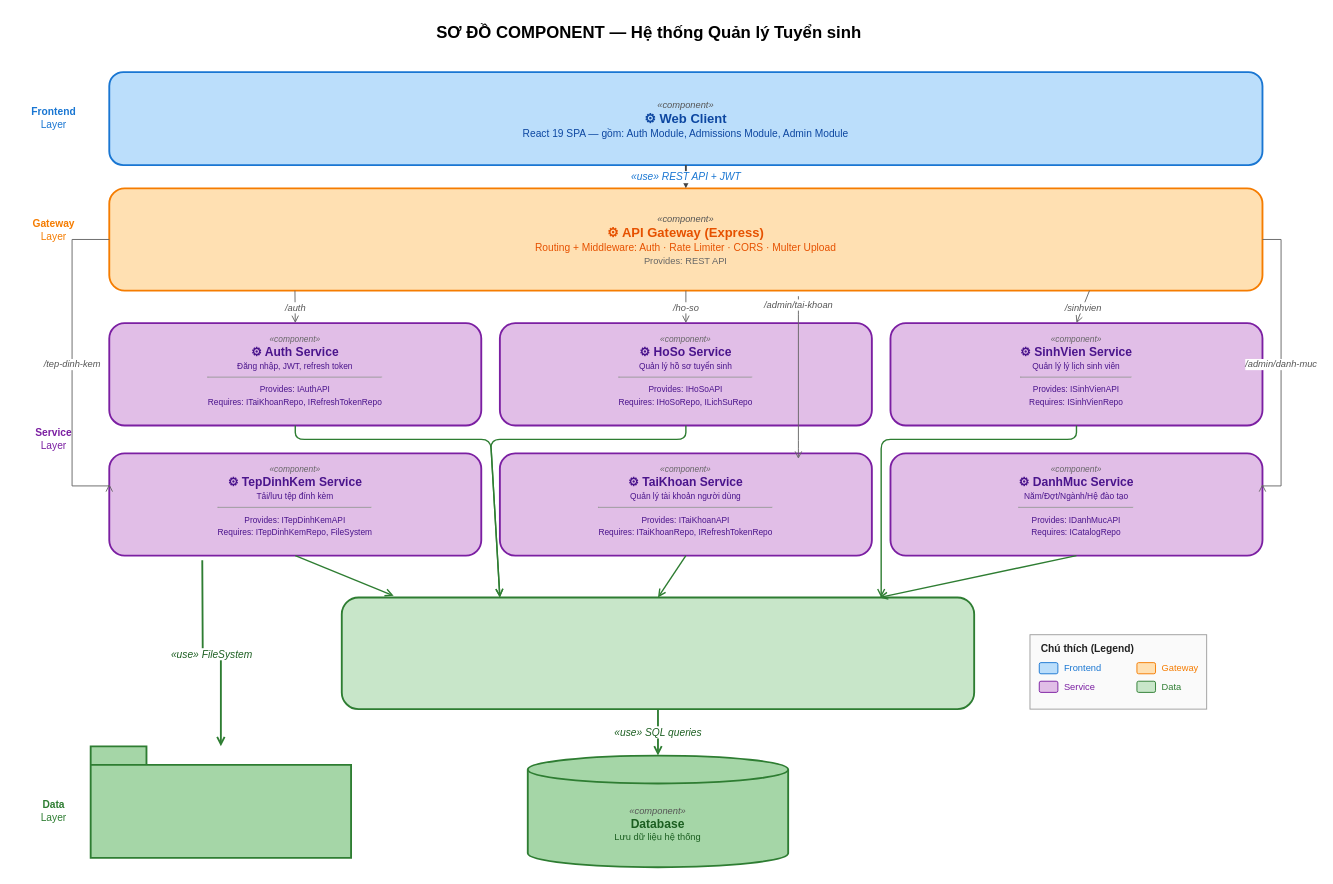
This 1333x884 diagram has some shape labels left out. Here are the shapes that lost their labels. From the top down, the centre of each, then its label:
point (657, 653): «component» ⚙ Repository Module Data access layer
point (220, 801): «component» File Storage /uploads/ — filesystem
